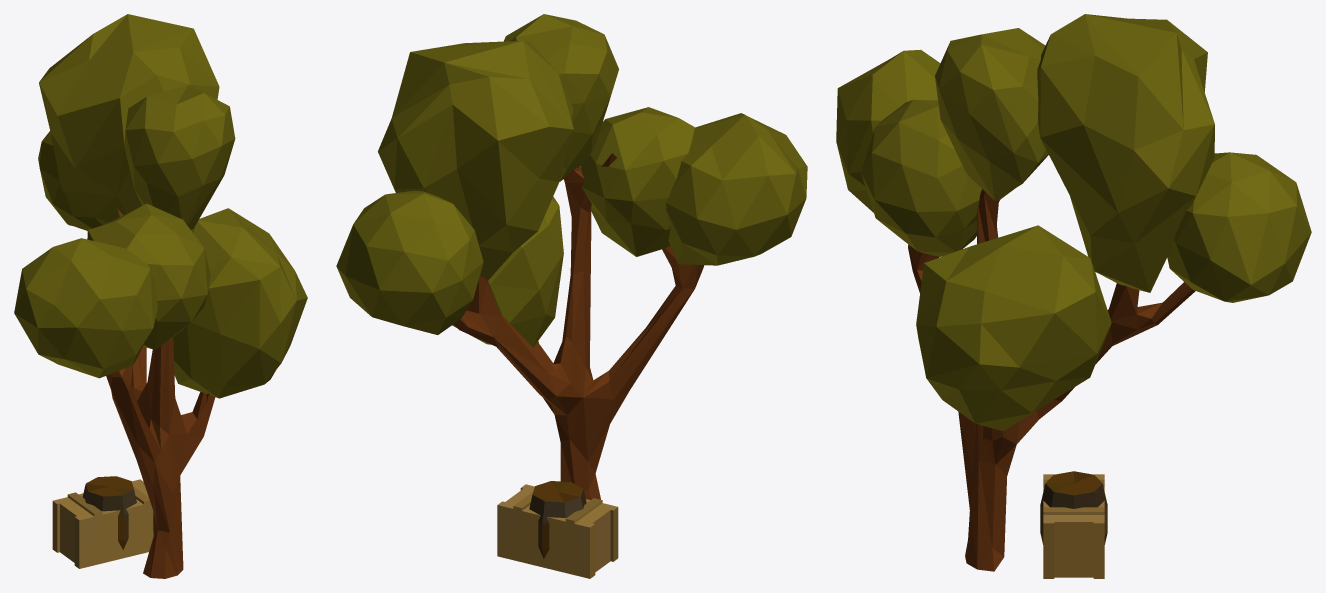
File: market-v1.glb
The picture shows the model from 3 angles, left to right: view 1: azimuth 30°, elevation 25°; view 2: azimuth 150°, elevation 25°; view 3: azimuth 270°, elevation 25°; orthographic projection. The views are drawn at different scales.
Visible parts, largest first — view 1: tree, crate, barrel; view 2: tree, crate, barrel; view 3: tree, crate, barrel.
Boxes of the visible parts, left/top/right/bottom form: tree: left=14, top=14, right=307, bottom=578; crate: left=52, top=479, right=153, bottom=568; barrel: left=82, top=476, right=136, bottom=549; tree: left=336, top=14, right=807, bottom=499; crate: left=497, top=484, right=618, bottom=578; barrel: left=529, top=481, right=586, bottom=558; tree: left=836, top=14, right=1311, bottom=571; crate: left=1043, top=474, right=1104, bottom=578; barrel: left=1040, top=471, right=1107, bottom=544.
Bounding box in the file's own units: 6.07 × 9 × 6.97.
